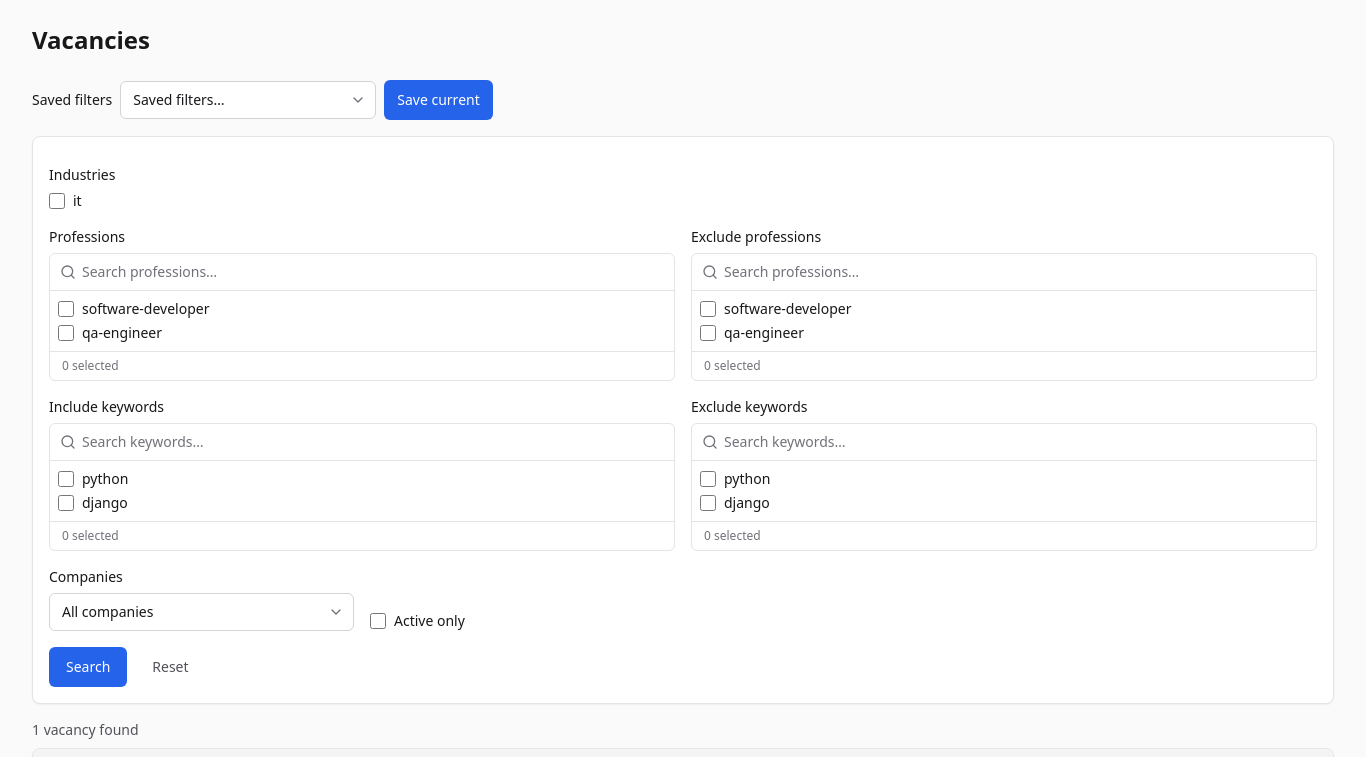
VacancyList saved filters › writes a preset company_filter into the URL on select
Select "Python IT" in the dropdown labelled "Saved filters" at [248, 100], box [120,81,376,119]
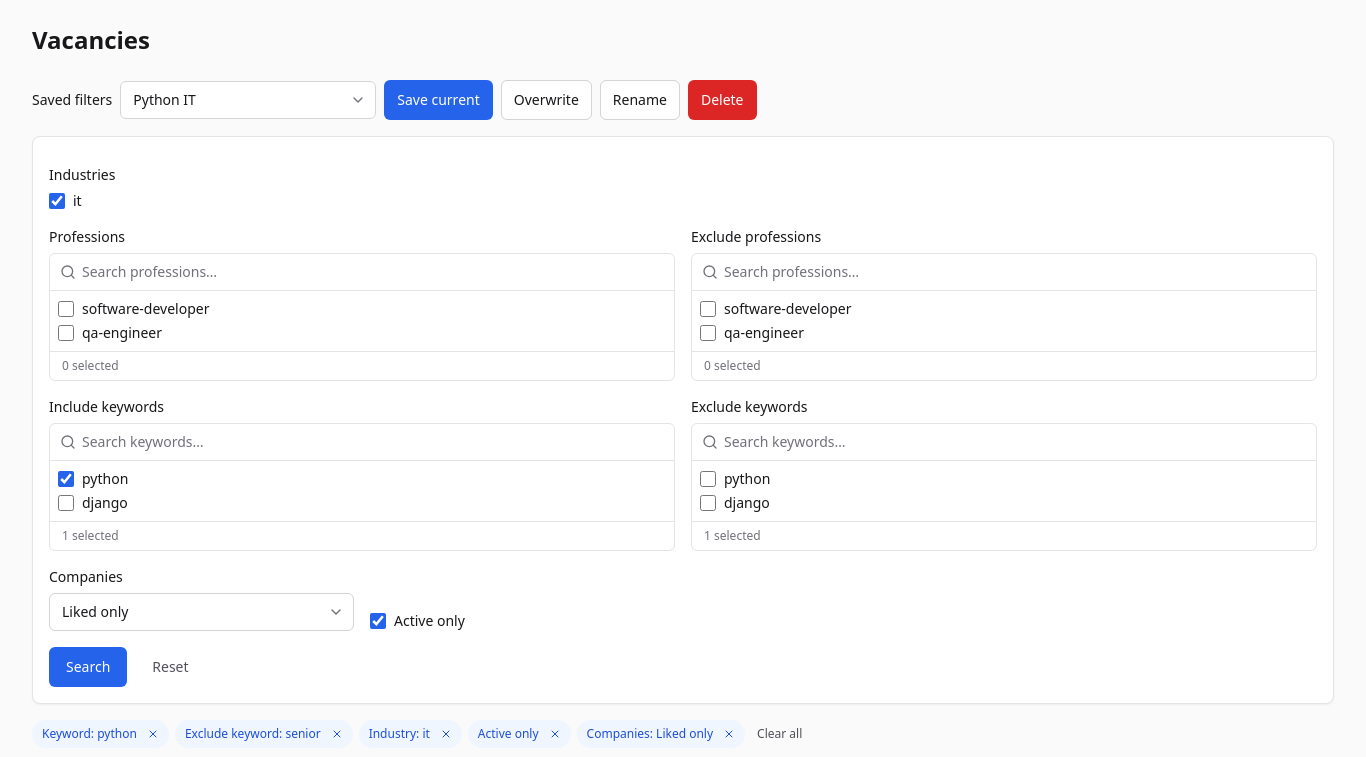
Now the dropdown labelled "Companies" shows "Liked only", box [49,593,354,631]
